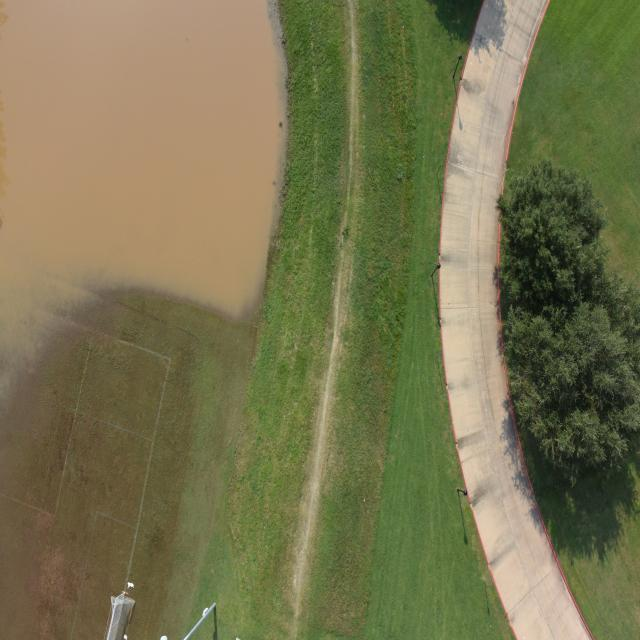fire: (0, 0, 286, 316)
